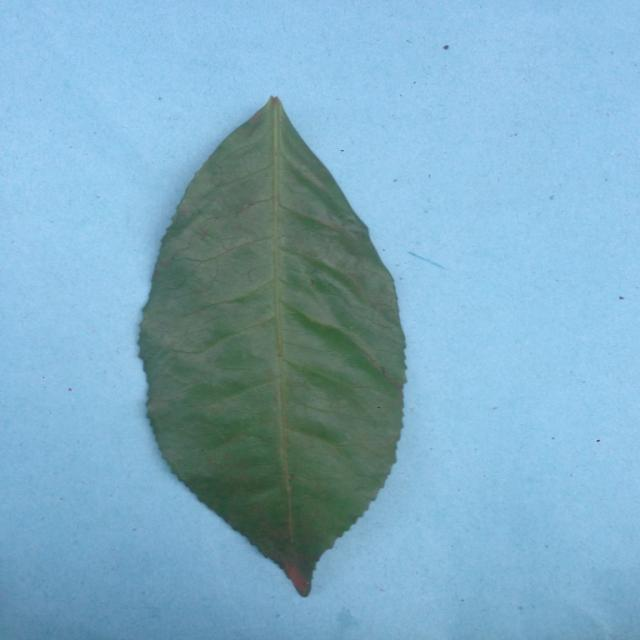Healthy: (98, 61, 460, 626)
